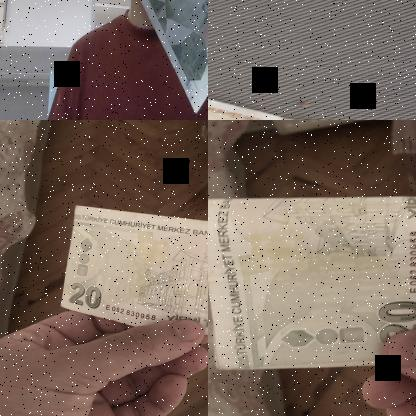5 TL: (64, 0, 207, 115)
